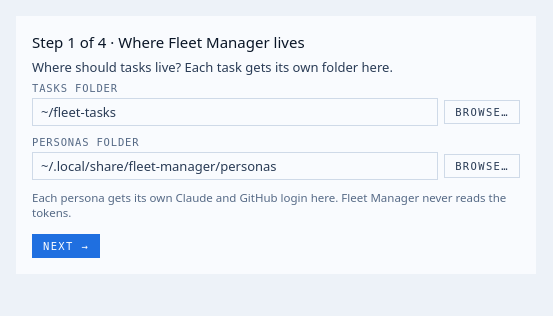
First run and Requirements, as egui's › an_empty_personas_folder_shows_the_error_and_stays
This screenshot has width=553, height=316.
Clear the field labelled "Personas folder" at (235, 166), box [32,152,438,180]
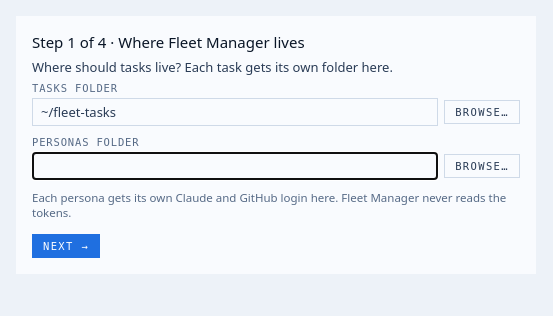
Click the button "Next →".
click(66, 246)  # box [32,234,100,258]
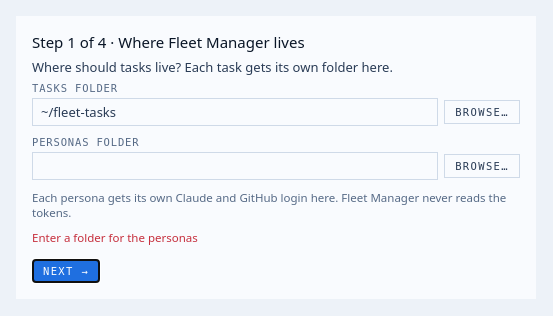
Expected: the text "Enter a folder for the personas" is shown, [32,230,198,245]
